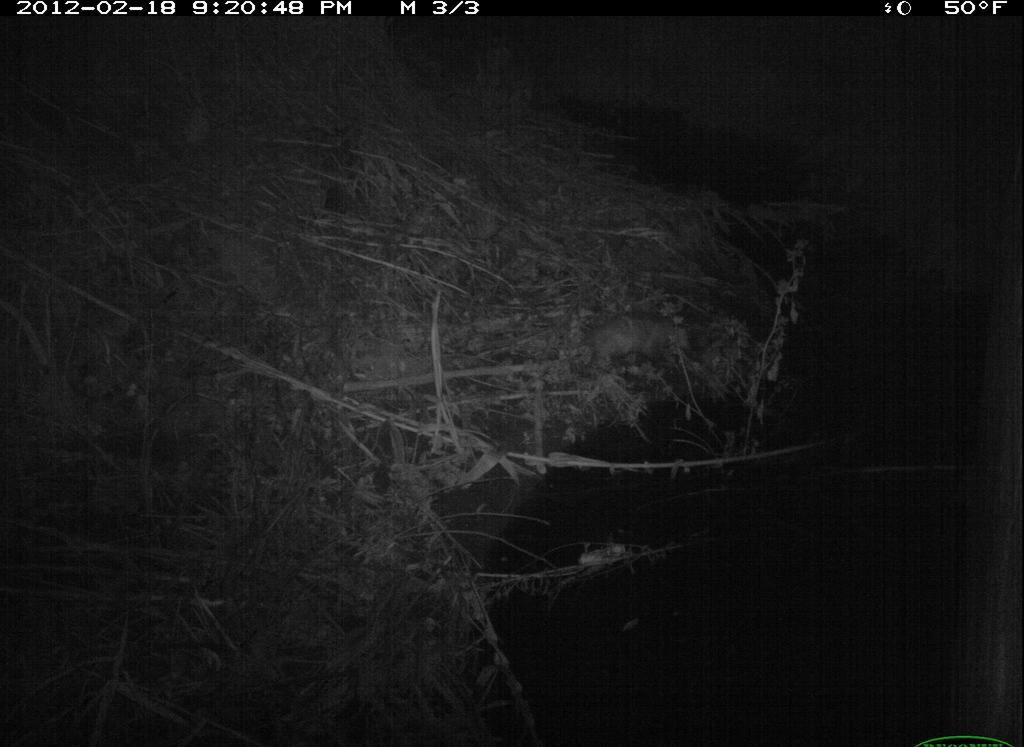opossum: (542, 303, 702, 400)
